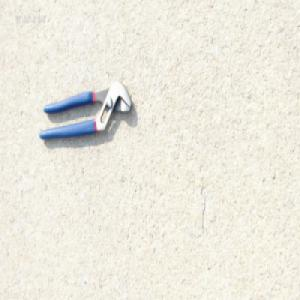Pliers: (38, 77, 133, 141)
